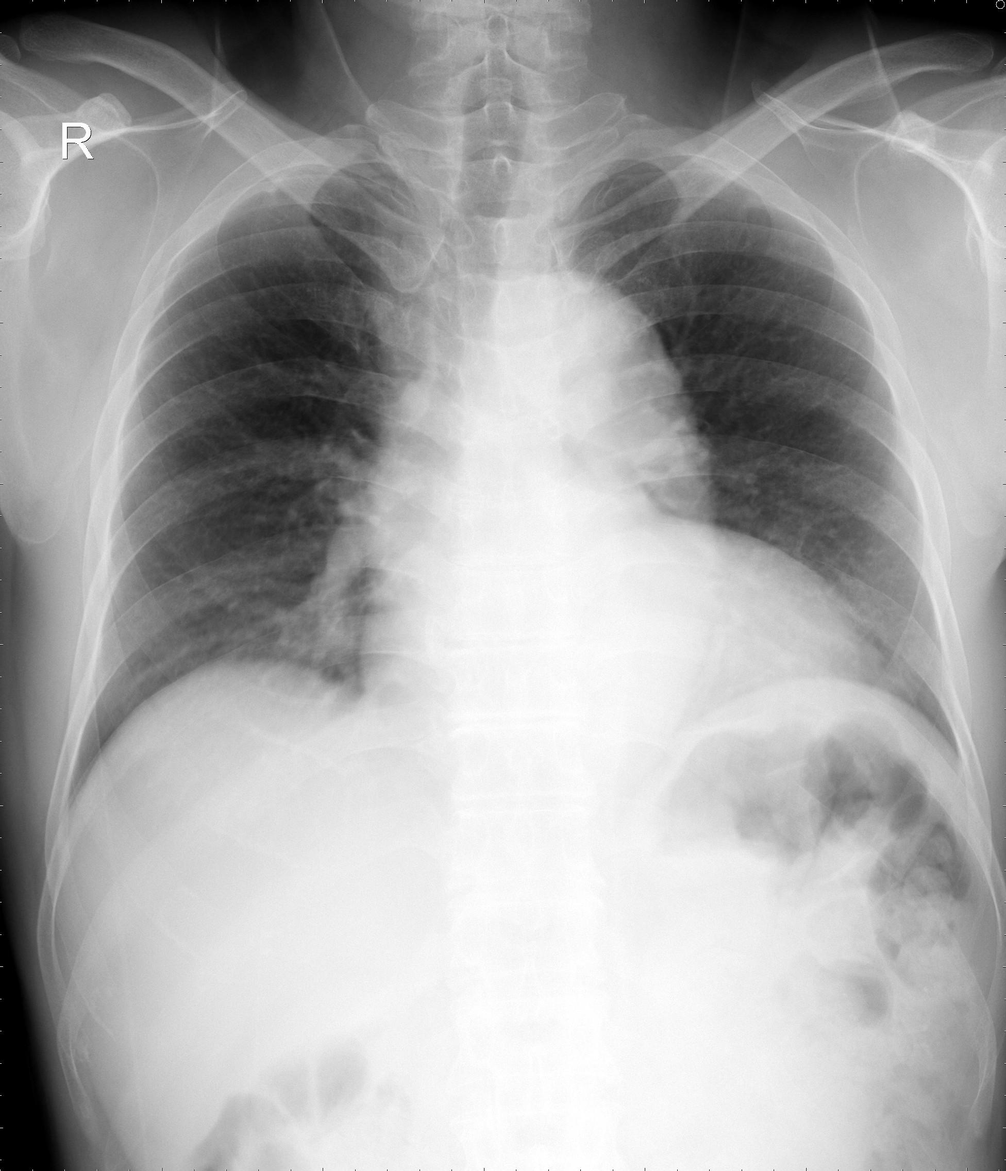Aortic enlargement: (509, 280, 702, 461)
Cardiomegaly: (350, 624, 862, 732)
